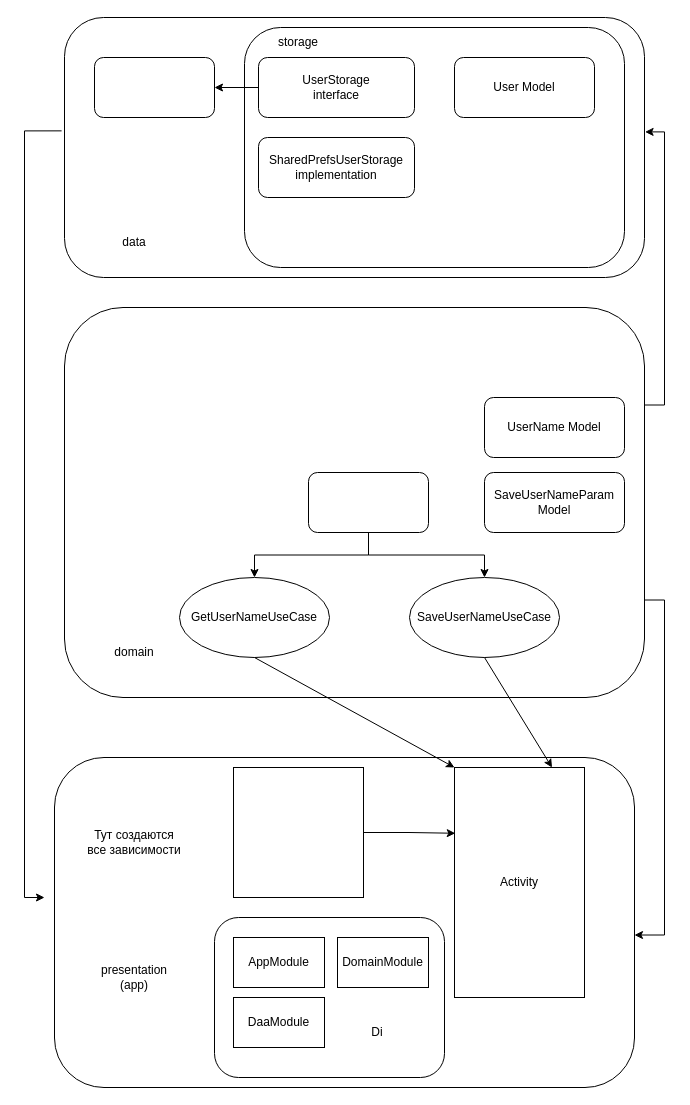
Image size: 690x1105. Some labels were removed from this diagram. Here are the shapes that lost their labels. From the top down, the centre of each, then its label:
[154,87]: UserRepositoryImpl implementation
[368,502]: UserRepository interface
[298,832]: View Model
